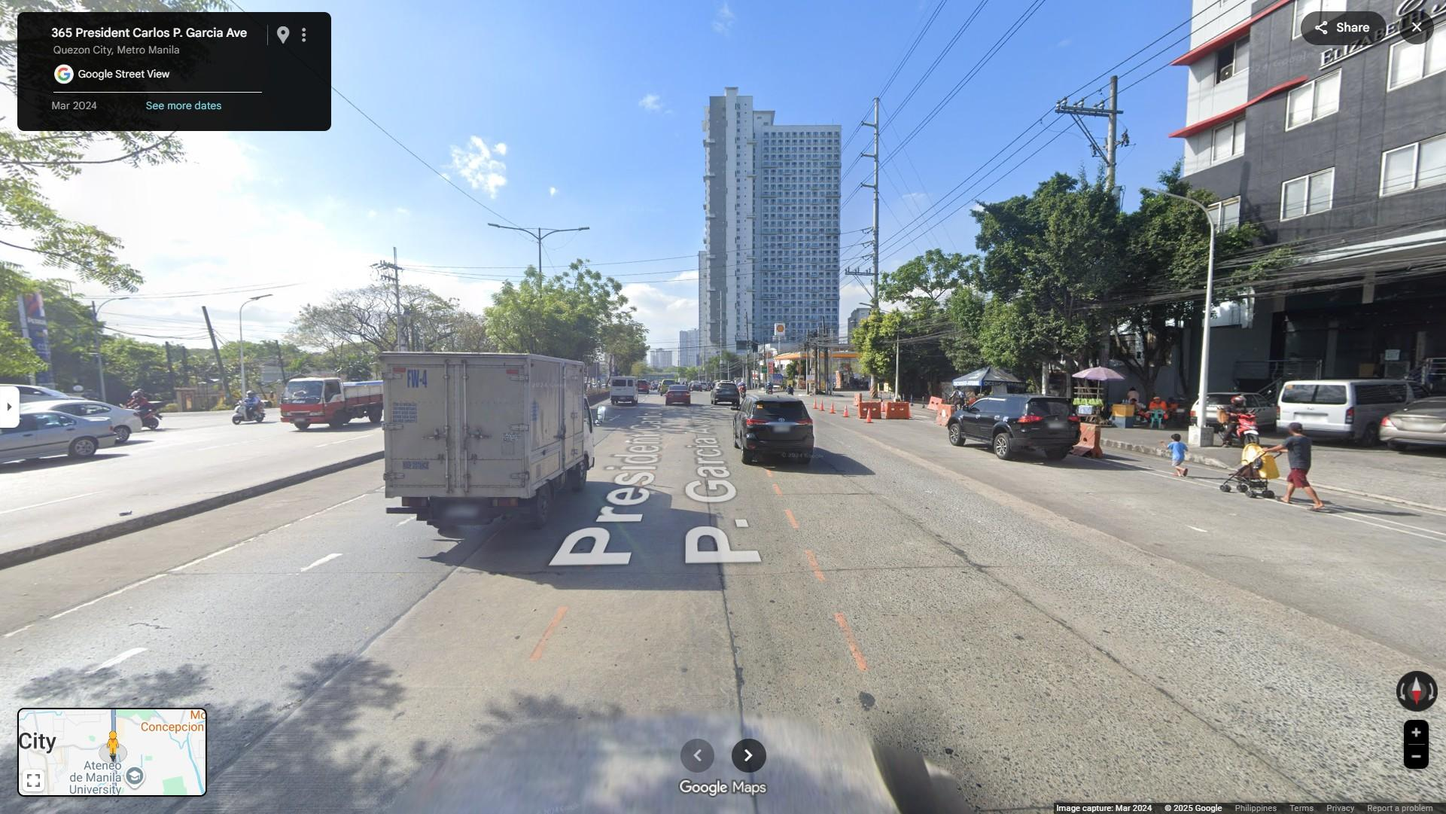cyclist: (945, 384, 969, 420)
pedestrian: (1260, 420, 1328, 512), (1161, 433, 1189, 478), (1126, 397, 1151, 425), (1149, 396, 1167, 430), (1126, 386, 1140, 421), (1164, 396, 1178, 426)
